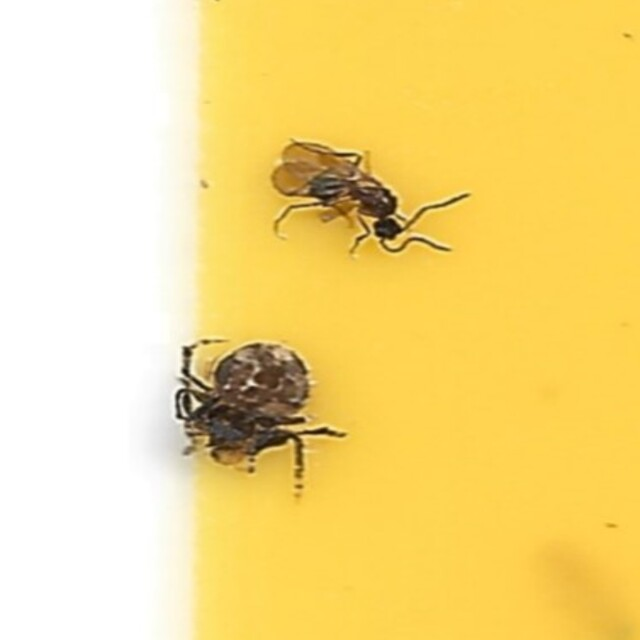Araneae: (170, 334, 350, 505)
Hymenoptera: (258, 135, 470, 267)
